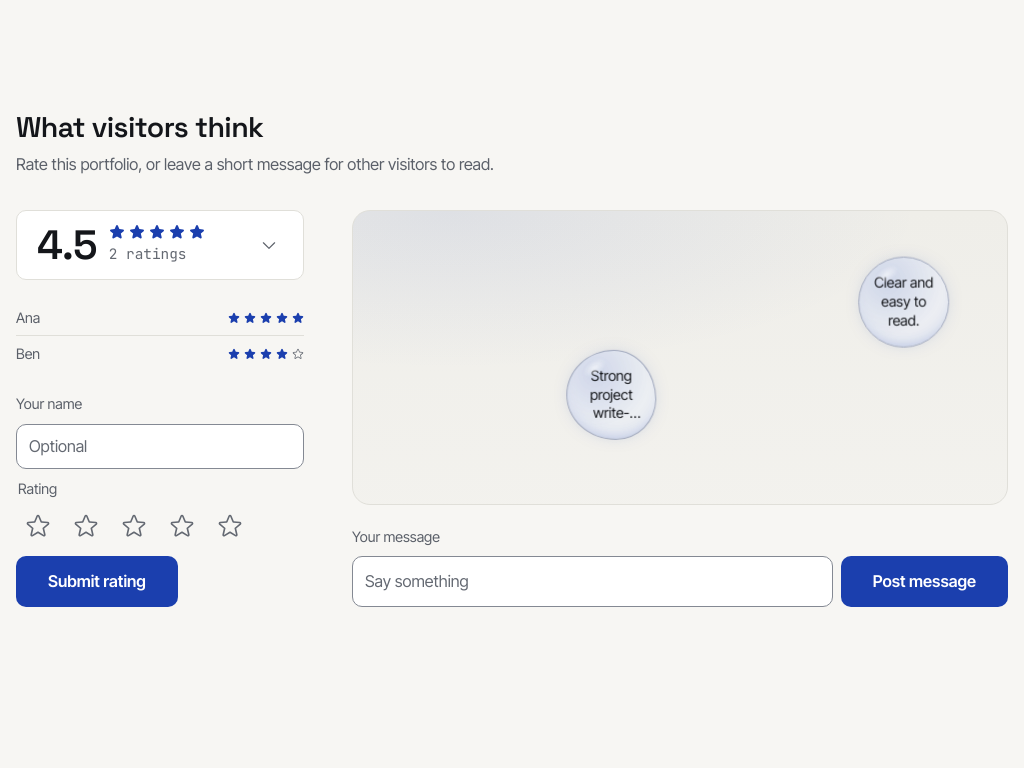
Test: Reviews › refuses to submit a rating without a star selected
This screenshot has width=1024, height=768.
Expected: the text "4.5" is shown, [37,225,97,266]
Click the button "Submit rating": (97, 582) [16,556,178,607]
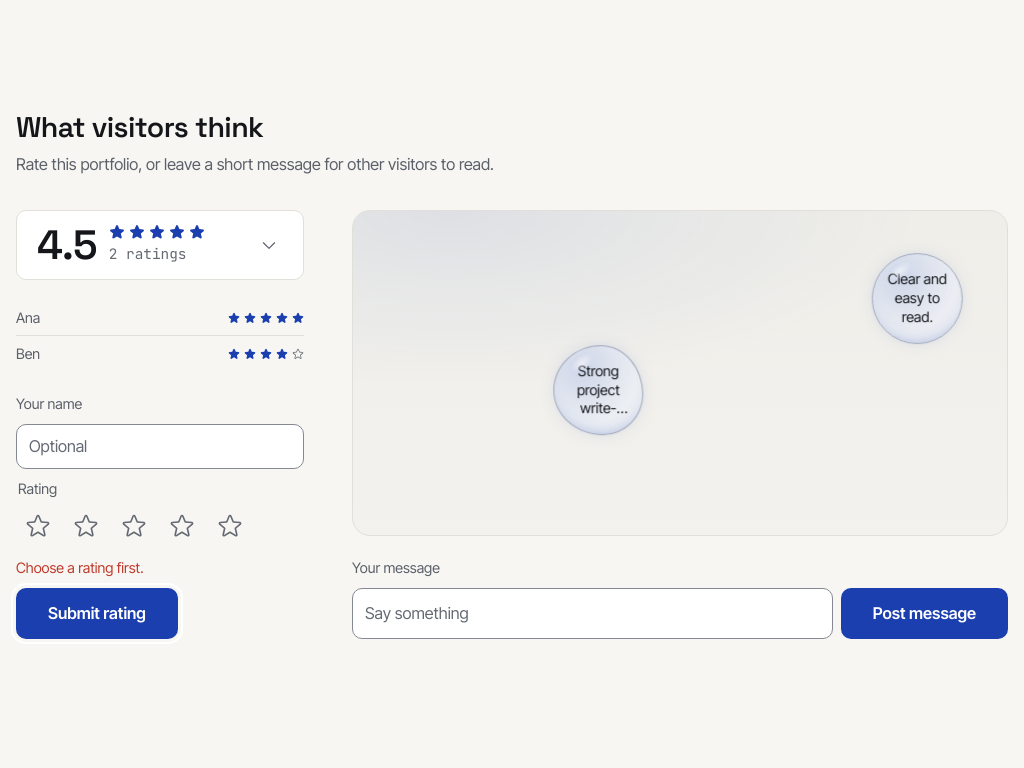
Result: the message shows "Choose a rating" at [16,560,144,576]
